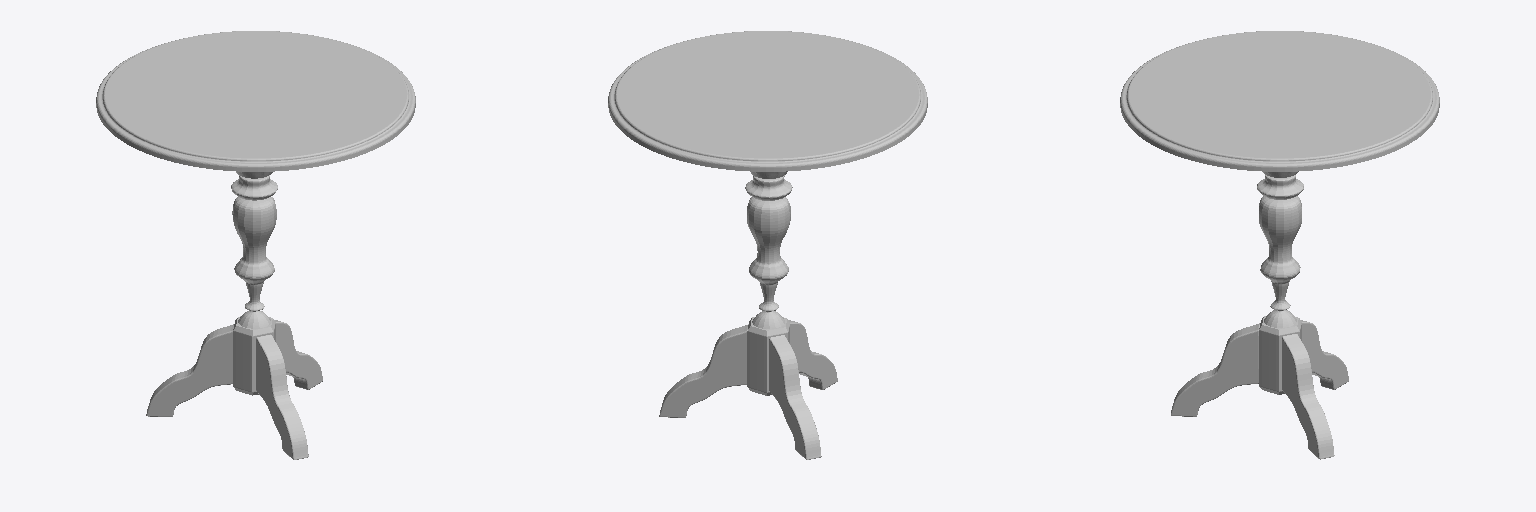
File: bartable1.obj
The picture shows the model from 3 angles: view 1: azimuth 30°, elevation 25°; view 2: azimuth 150°, elevation 25°; view 3: azimuth 270°, elevation 25°; orthographic projection.
Parts seen in each view (by area): view 1: Bar_table; view 2: Bar_table; view 3: Bar_table.
Boxes of the visible parts, <box> form: Bar_table: <box>96,31,415,459</box>; Bar_table: <box>608,31,927,459</box>; Bar_table: <box>1120,31,1439,459</box>.
Bounding box in the file's own units: 710 × 791 × 710.